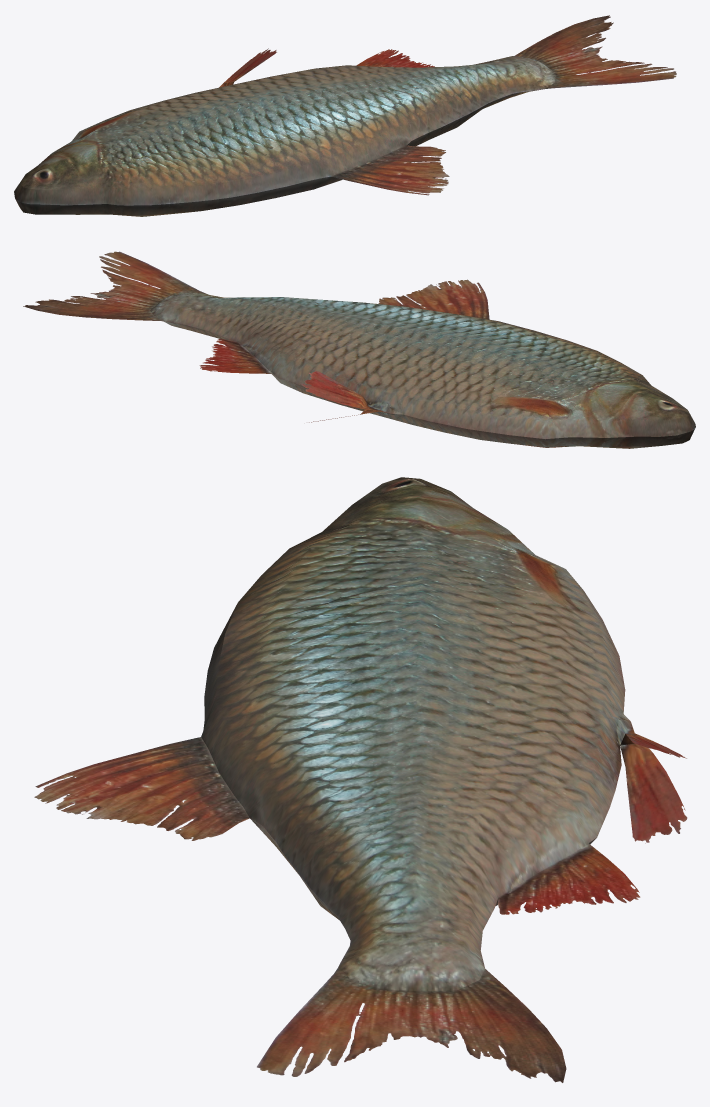
Rendered from fish.obj.
The picture shows the model from 3 angles, top to bottom: view 1: azimuth 30°, elevation 25°; view 2: azimuth 150°, elevation 25°; view 3: azimuth 270°, elevation 25°; orthographic projection. The views are drawn at different scales.
Parts seen in each view (by area): view 1: Regroup00; view 2: Regroup00; view 3: Regroup00.
Part boxes in pixels (x1,y1,x2,y2): Regroup00: [14, 15, 676, 216]; Regroup00: [23, 251, 695, 448]; Regroup00: [34, 477, 687, 1082].
Size of the model in its own units: 701 by 81 by 339.
1 material, 1 textured.
